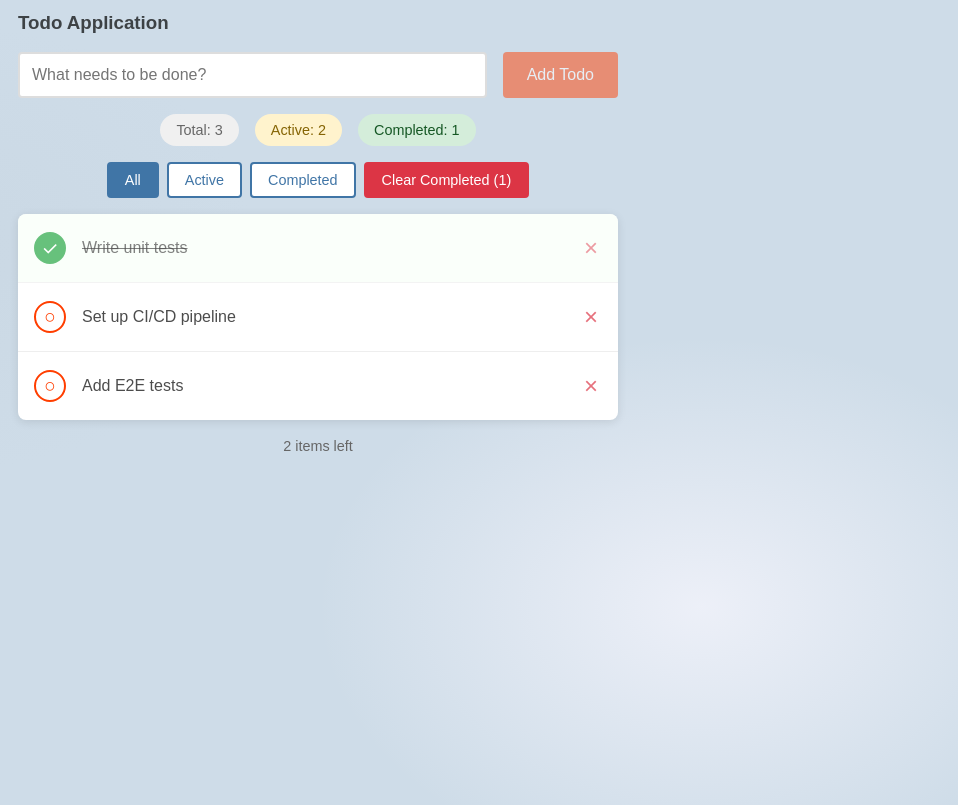
Test case: TodoApp Component › adds new todo when add button is clicked
Type "New test todo" into the field with test id "new-todo-input" at (252, 75), box [18,52,487,98]
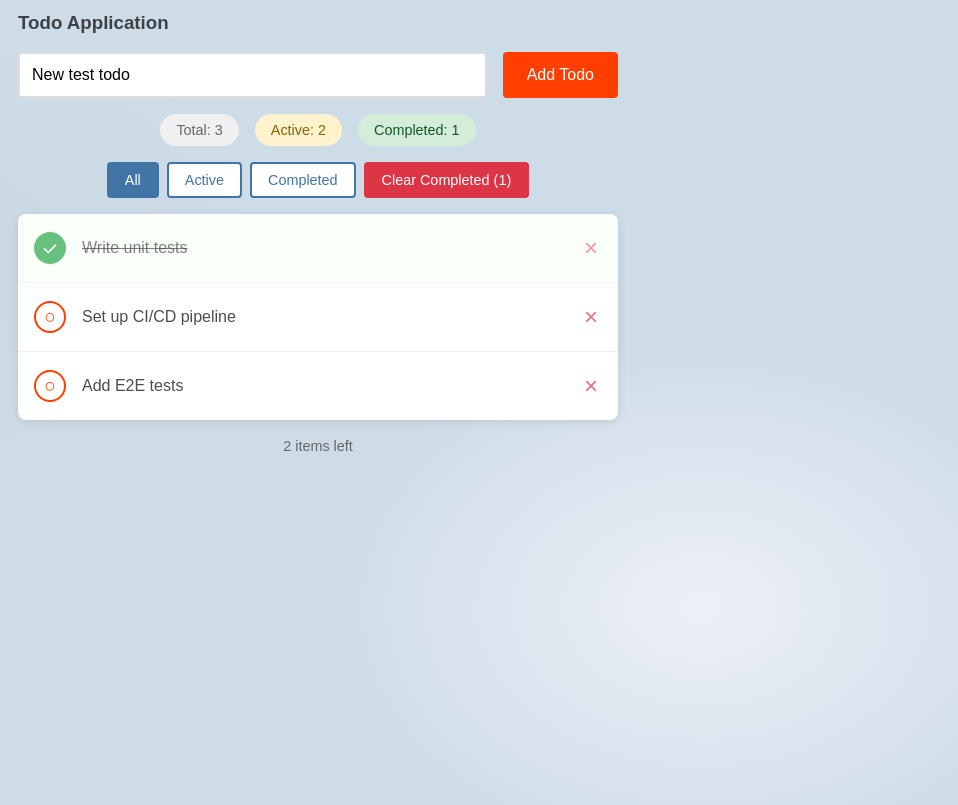
Click the button with test id "add-todo-btn" at (560, 75), box [503,52,618,98]
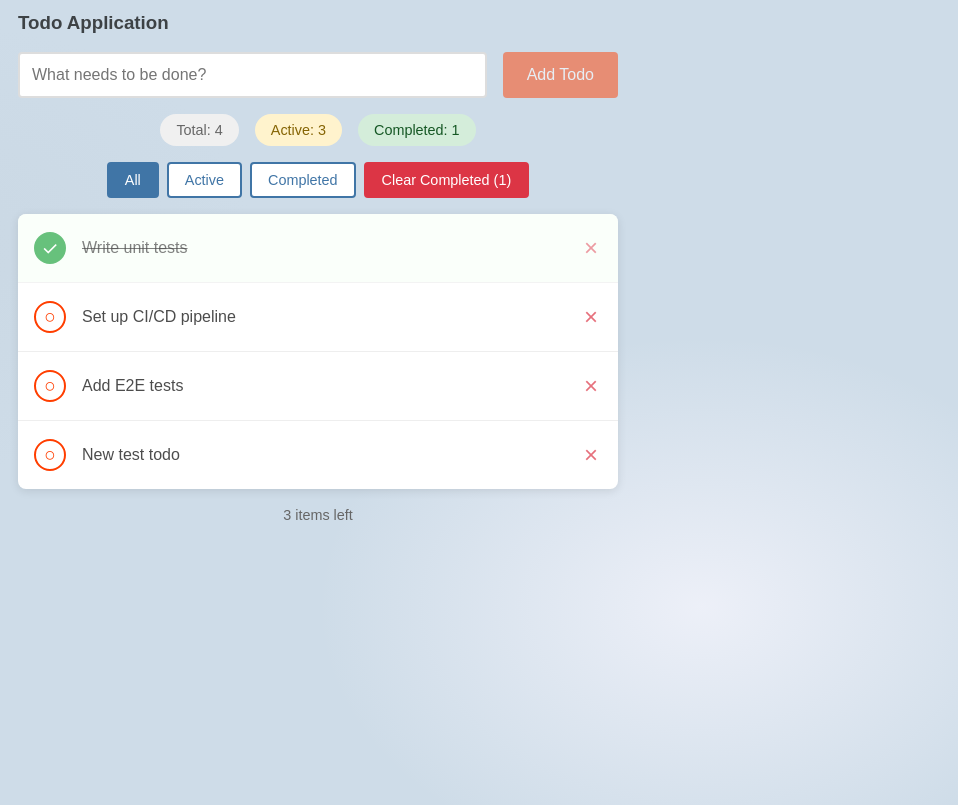
Expected: the text "New test todo" is shown, [82,446,180,463]
Expected: the text "Total: 4" is shown, [160,114,239,146]
Expected: the text "Active: 3" is shown, [255,114,342,146]
